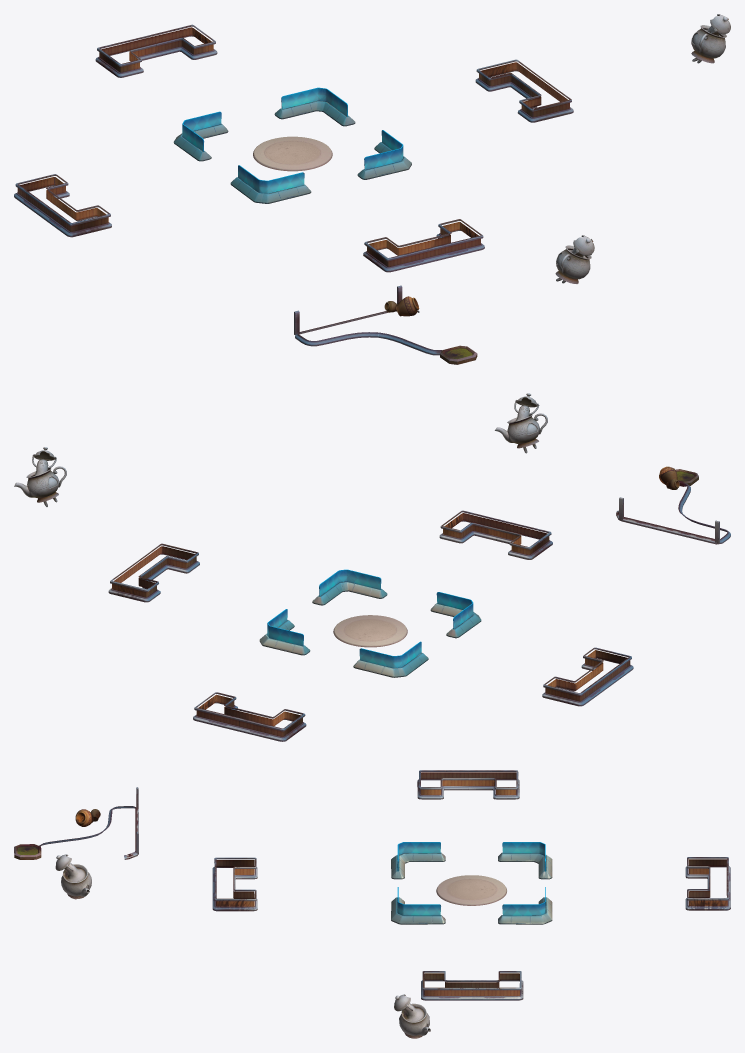
Rendered from pref_sm_garden_props_vray_005_lv2.fbx.
3 renders of one model, top to bottom at view 1: azimuth 30°, elevation 25°; view 2: azimuth 150°, elevation 25°; view 3: azimuth 270°, elevation 25°, orthographic. The views are drawn at different scales.
Visible parts, largest first — view 1: pref_sm_garden_props_vray_005_lv2; view 2: pref_sm_garden_props_vray_005_lv2; view 3: pref_sm_garden_props_vray_005_lv2.
Part boxes in pixels (x1,y1,x2,y2): pref_sm_garden_props_vray_005_lv2: (14,14,730,364); pref_sm_garden_props_vray_005_lv2: (14,393,730,741); pref_sm_garden_props_vray_005_lv2: (14,770,730,1038).
Bounding box in the file's own units: 49.71 × 5.22 × 52.61.
Materials: 1 (1 with a texture image).
